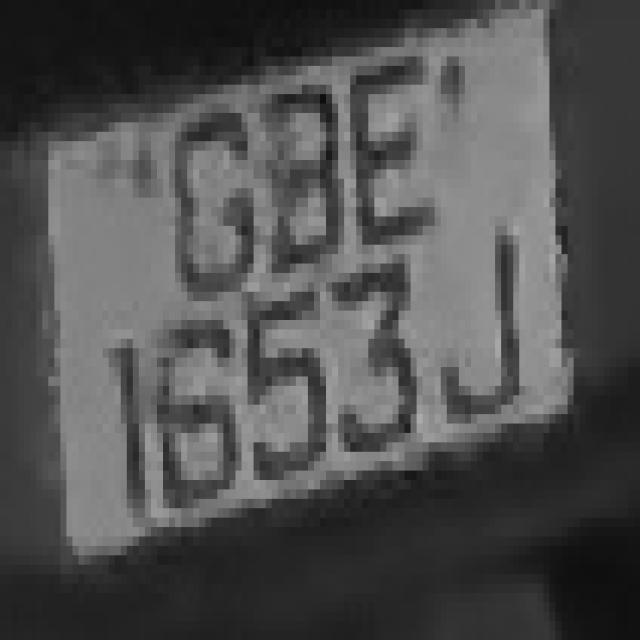1: (97, 320, 151, 574)
3: (308, 254, 429, 480)
5: (230, 264, 332, 508)
6: (151, 301, 247, 546)
B: (248, 85, 350, 301)
E: (338, 66, 435, 263)
G: (145, 85, 266, 329)
J: (411, 226, 544, 461)
